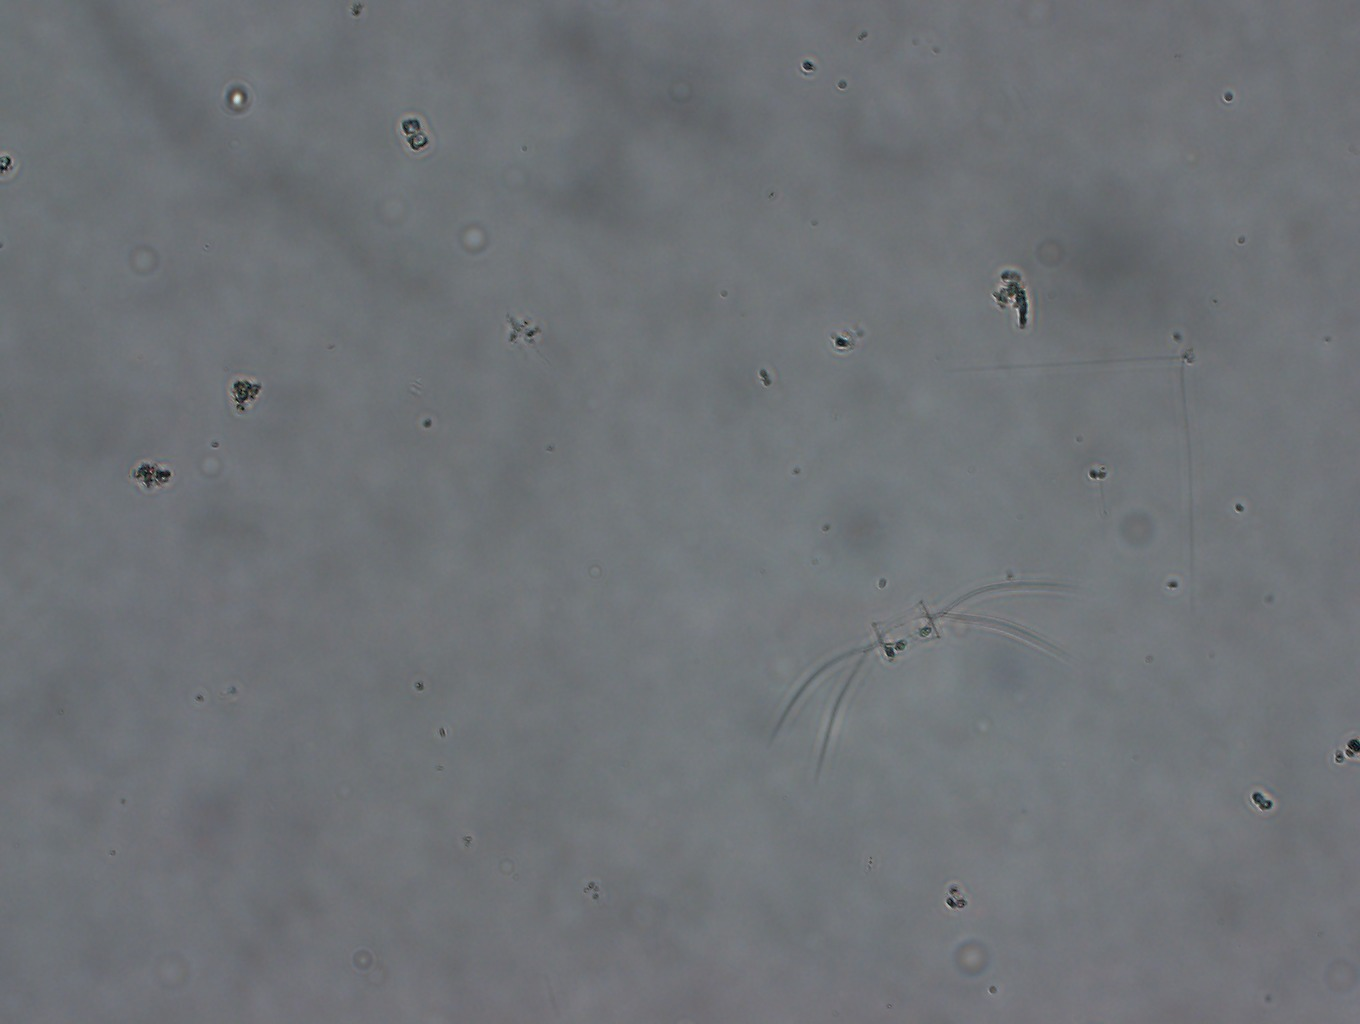chaetoceros: (760, 565, 1099, 787)
